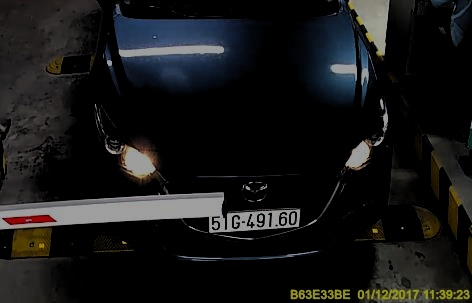plate: (207, 204, 301, 231)
